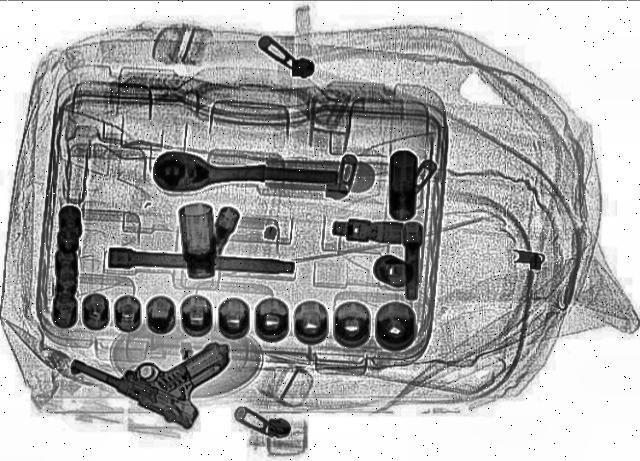Gun: (58, 302, 262, 430)
